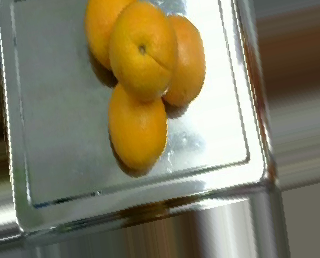Orange: (108, 0, 177, 101), (108, 78, 167, 170), (83, 1, 152, 74), (152, 13, 205, 106)
